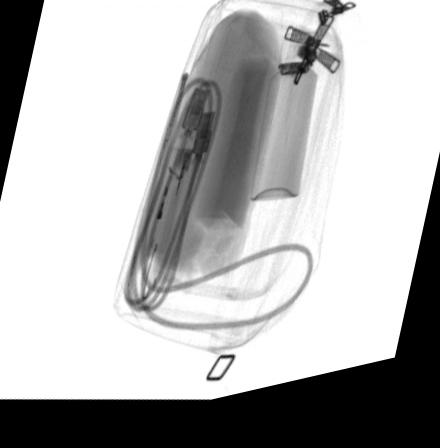Lighter: (151, 154, 193, 230)
Sprayer: (249, 44, 318, 212)
